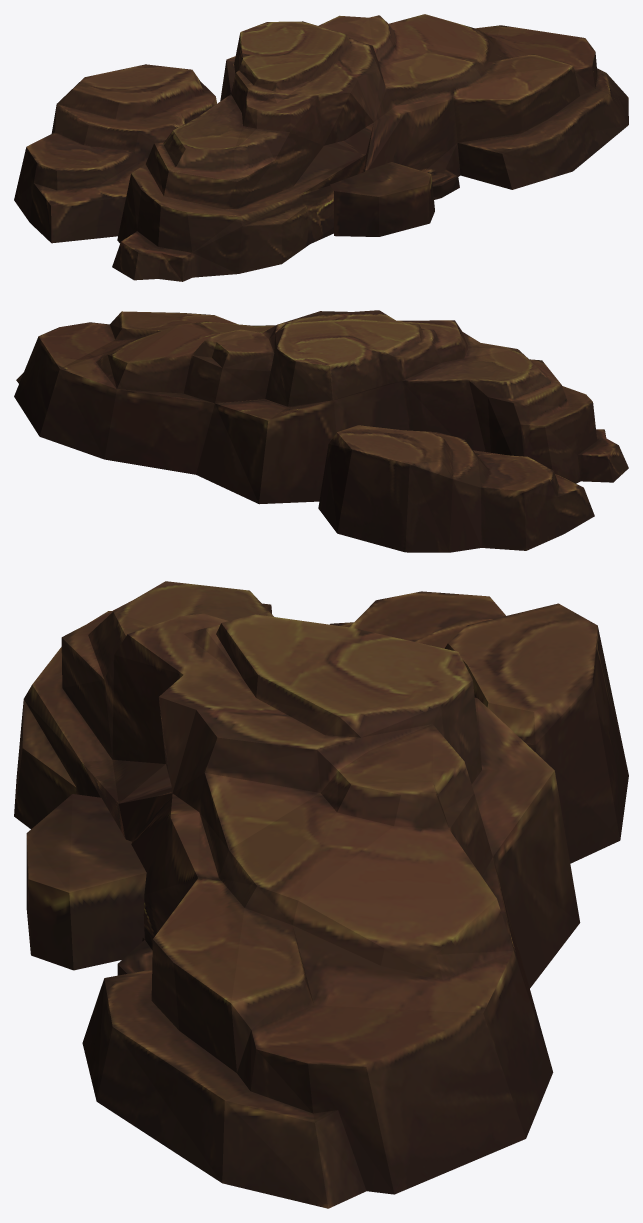
Rendered from DashiTou02.FBX.
3 renders of one model, top to bottom at view 1: azimuth 30°, elevation 25°; view 2: azimuth 150°, elevation 25°; view 3: azimuth 270°, elevation 25°, orthographic. The views are drawn at different scales.
Visible parts, largest first — view 1: DaShiTou02; view 2: DaShiTou02; view 3: DaShiTou02.
Part boxes in pixels (box(x1,y1,x2,y2)): DaShiTou02: box(14, 14, 628, 281); DaShiTou02: box(14, 310, 628, 552); DaShiTou02: box(14, 581, 628, 1208).
Bounding box in the file's own units: 851 × 187 × 417.
